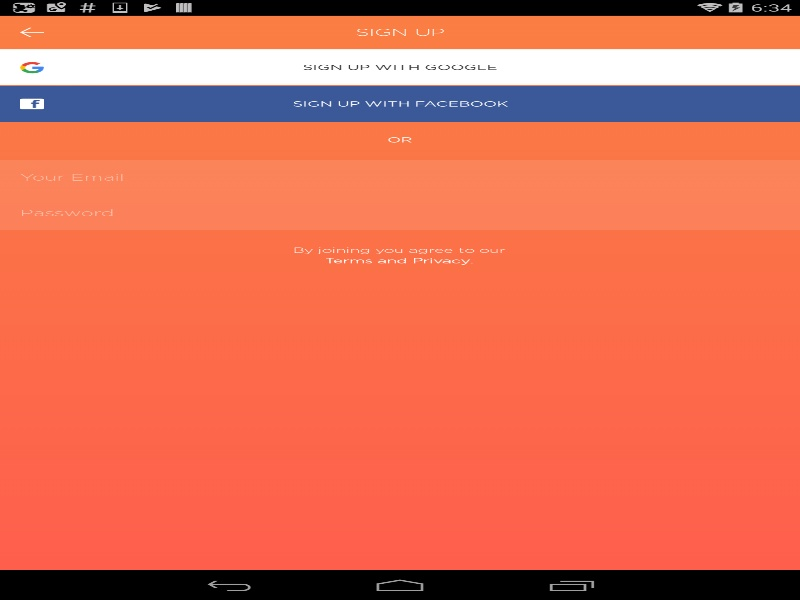Input: (0, 159, 800, 194), (0, 195, 800, 230)
